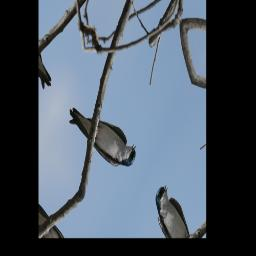Swallow: (65, 79, 140, 188)
